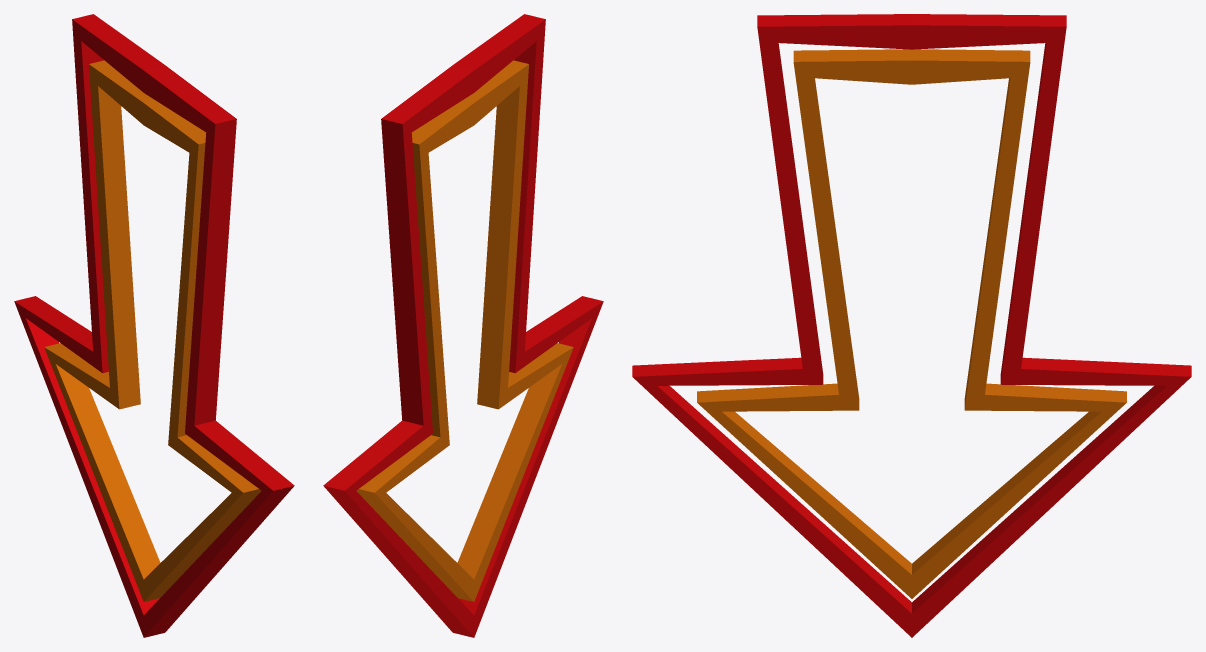
The model's file is GoalArrow.fbx.
3 renders of one model, left to right at view 1: azimuth 30°, elevation 25°; view 2: azimuth 150°, elevation 25°; view 3: azimuth 270°, elevation 25°, orthographic. The views are drawn at different scales.
Visible parts, largest first — view 1: GoalArrow; view 2: GoalArrow; view 3: GoalArrow.
Part boxes in pixels (x1,y1,x2,y2): GoalArrow: [14, 14, 294, 637]; GoalArrow: [323, 14, 603, 637]; GoalArrow: [632, 14, 1191, 637].
Size of the model in its own units: 3.73 by 94.13 by 77.9.
